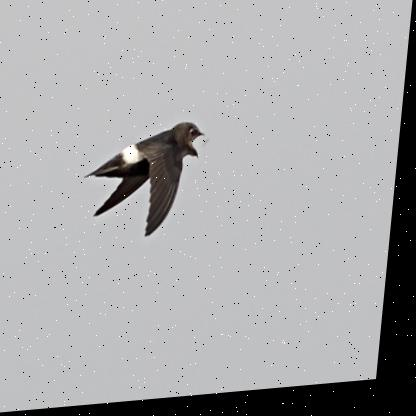Burung: (83, 124, 208, 244)
